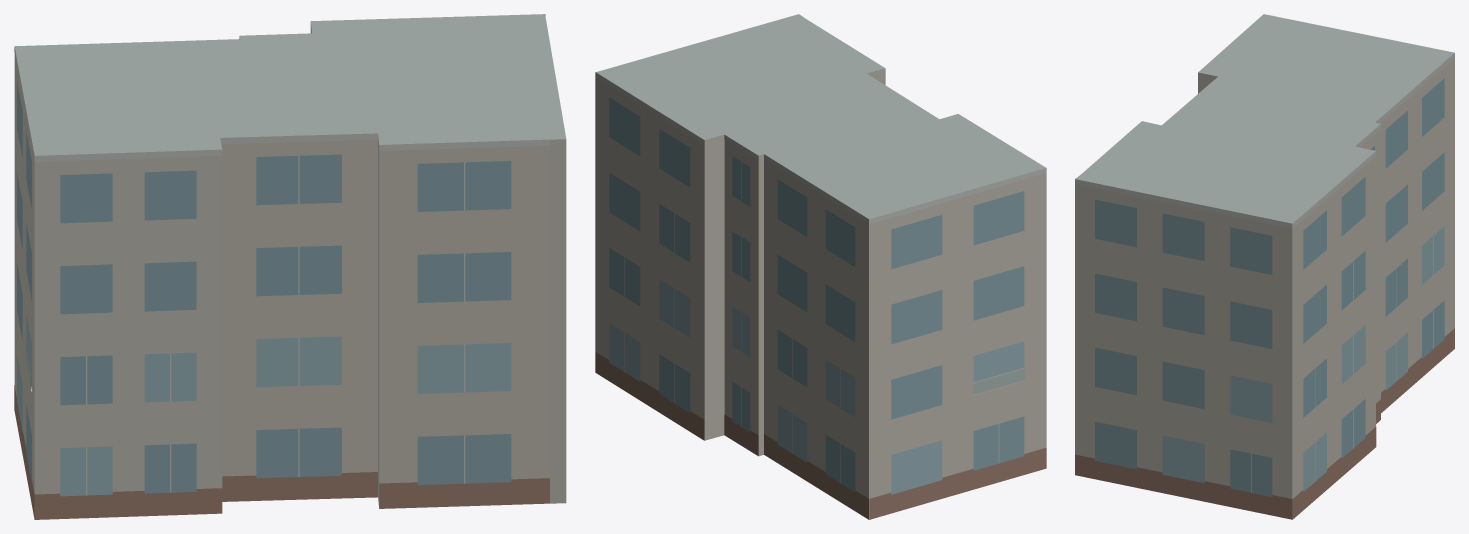
Rendered from survey-upis-32581416.glb.
3 views of the same model, side by side, from view 1: azimuth 30°, elevation 25°; view 2: azimuth 150°, elevation 25°; view 3: azimuth 270°, elevation 25° (orthographic). The views are drawn at different scales.
Parts seen in each view (by area): view 1: survey-upis-32581416.tmp; view 2: survey-upis-32581416.tmp; view 3: survey-upis-32581416.tmp.
Boxes of the visible parts, left/top/right/bottom form: survey-upis-32581416.tmp: left=14, top=14, right=566, bottom=519; survey-upis-32581416.tmp: left=595, top=14, right=1046, bottom=519; survey-upis-32581416.tmp: left=1075, top=14, right=1454, bottom=519.
Size of the model in its own units: 21.89 by 14.4 by 16.75.
